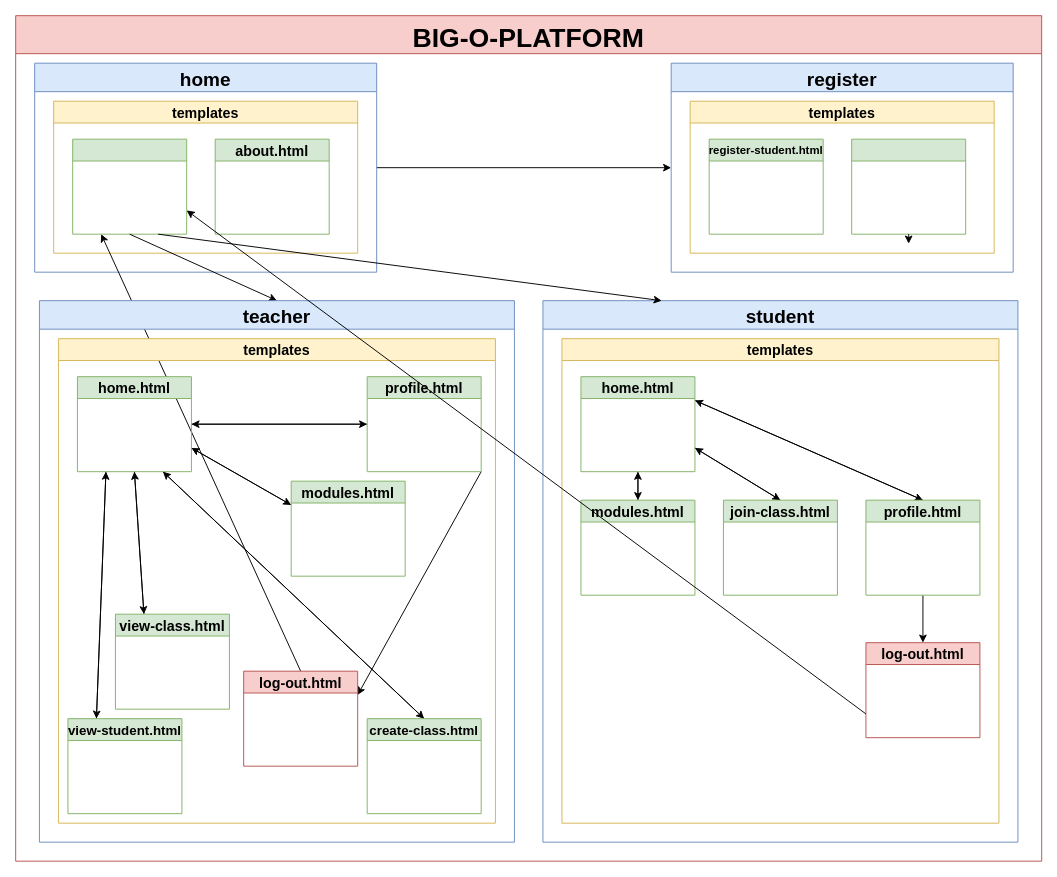
Image size: 1057x877. Some labels were removed from this diagram. The shapes that lost their labels are listed below. From the top down, each one's centre as x and y in pixels, then its label:
At pixel 129 186: "log-in.html".
At pixel 908 186: "register-teacher.html".
